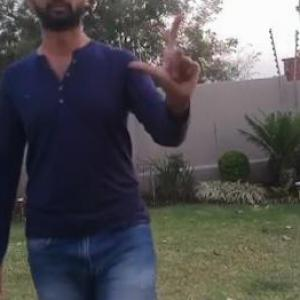land_hand: (124, 0, 213, 98)
